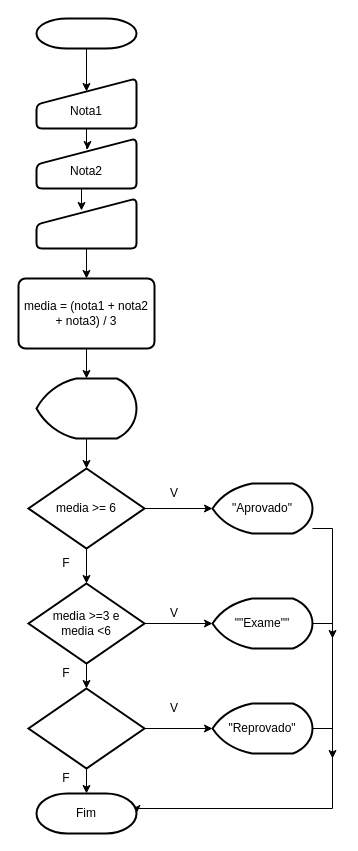
Some shapes in this 358 by 851 pixel diagram are drawn without their labels. Each missing label, with the centre of its shape:
"Início" goes at (86,33).
"media" goes at (86,408).
"media < 3" goes at (86,728).
"Nota3" goes at (86,223).
